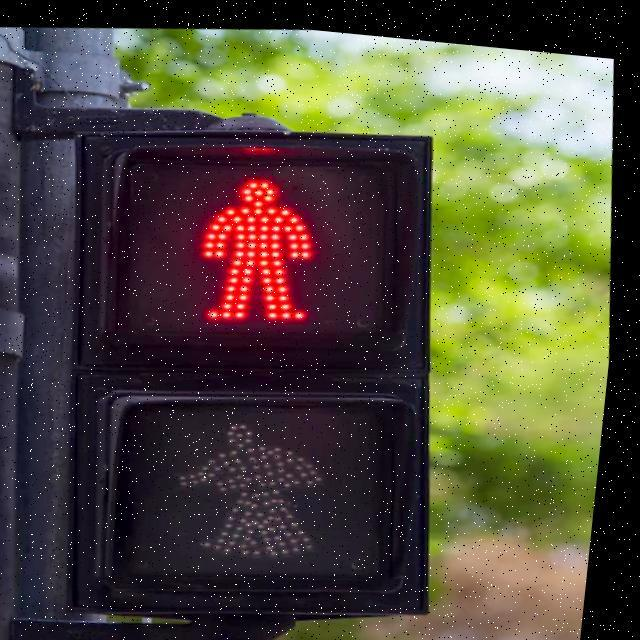red_light: (144, 140, 378, 350)
